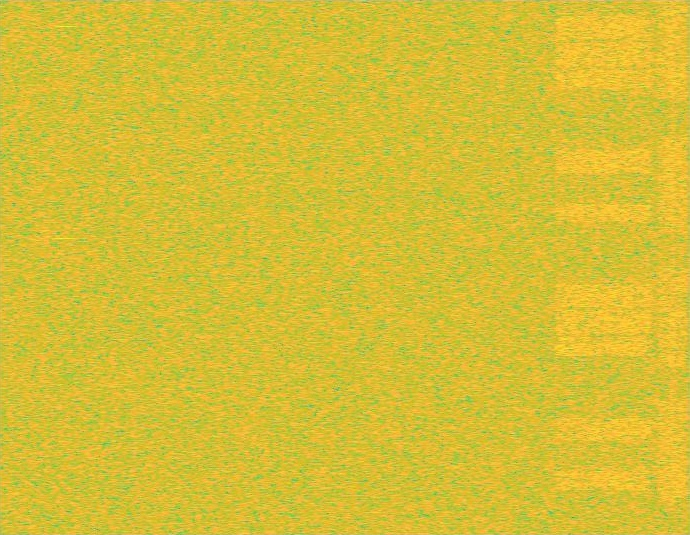5G: (656, 0, 689, 534)
DSSS: (670, 0, 675, 534)
LTE: (552, 0, 656, 534)
Radar: (58, 0, 72, 534)
